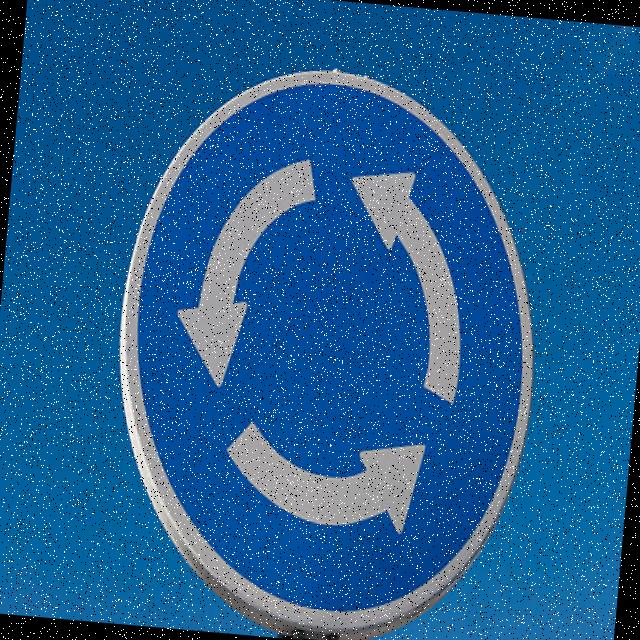round_about: (96, 46, 563, 640)
